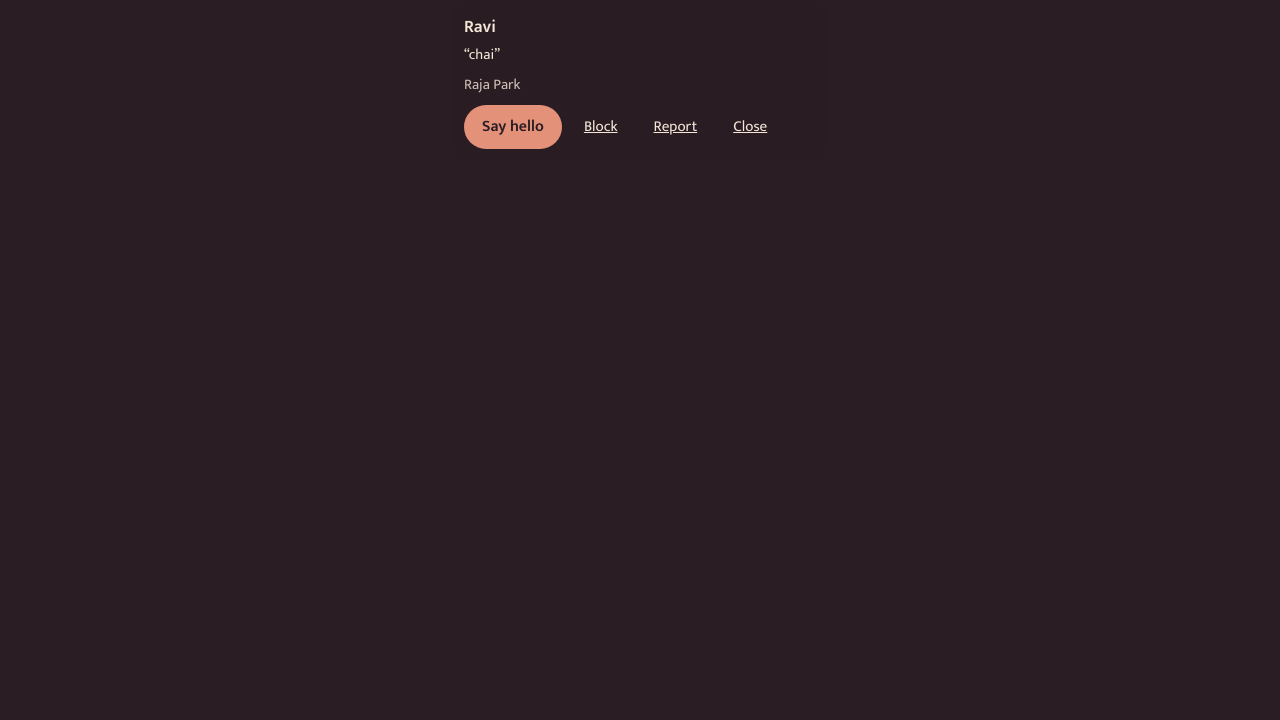
Test: BlockConfirm: a block that fails opens no report form
Click the button "Block" at (601, 127), box [570,105,632,149]
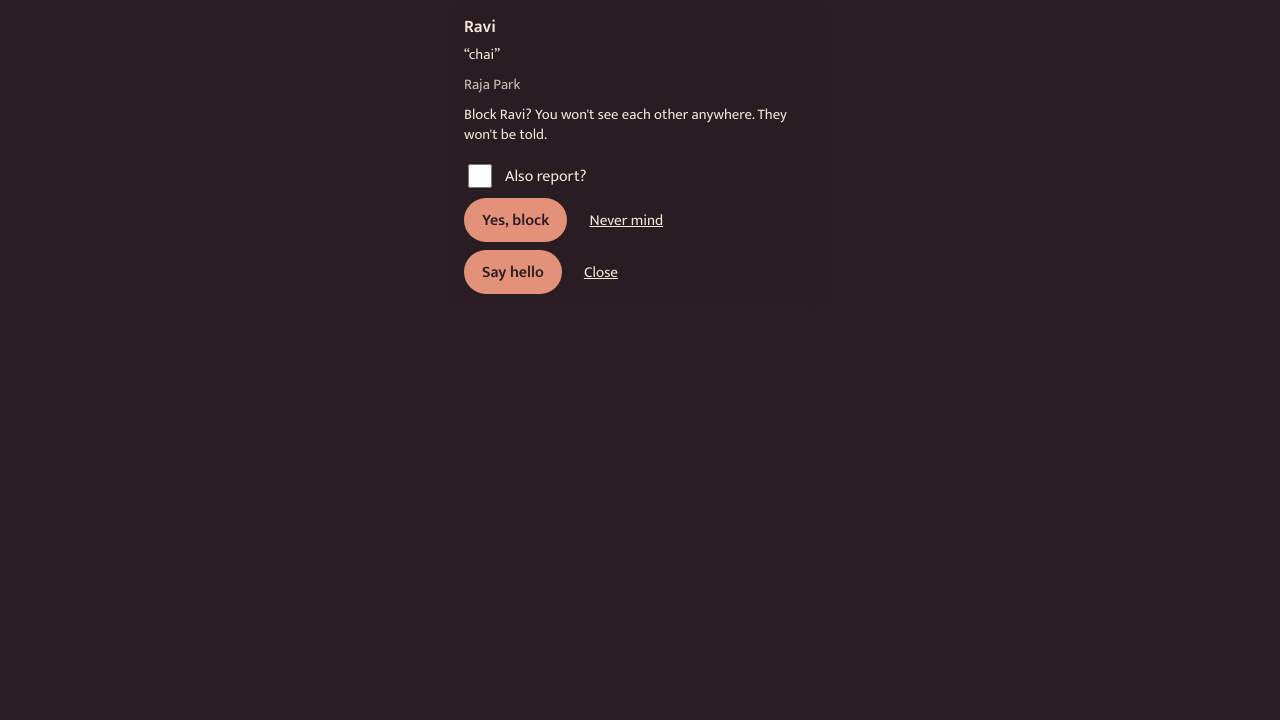
Click the checkbox labelled "Also report?" at (480, 176), box [468,164,492,188]
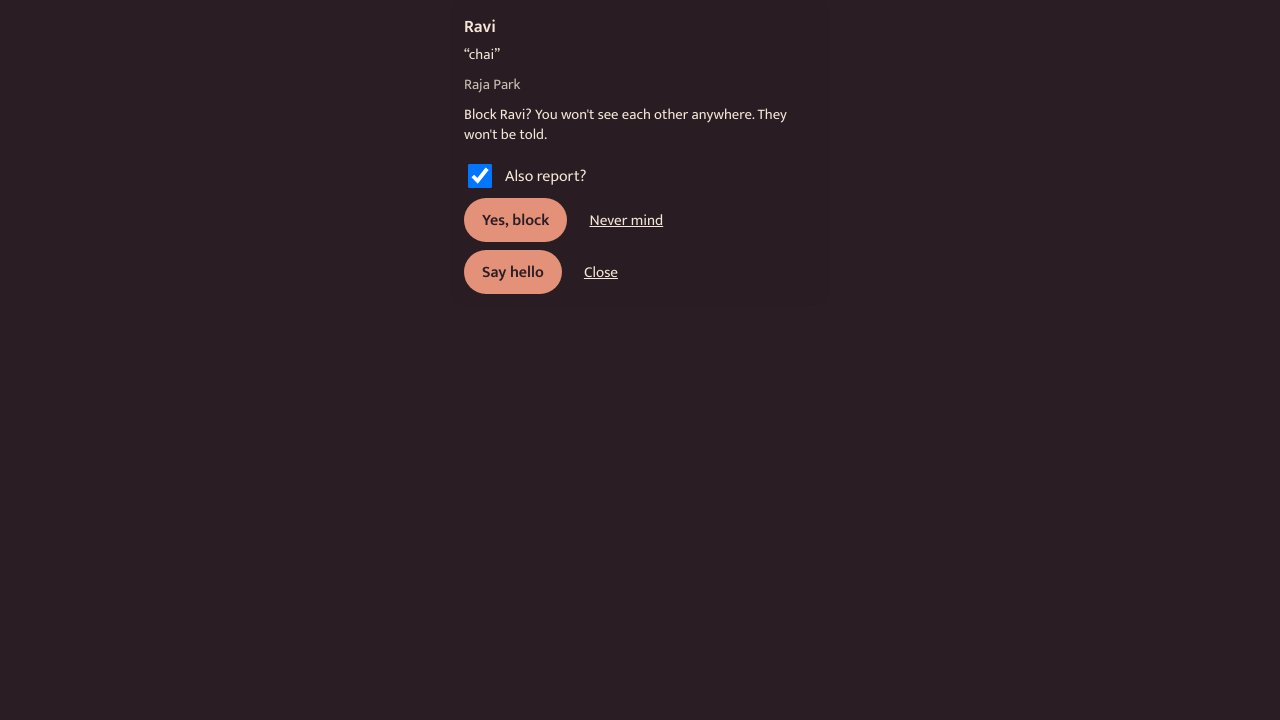
Click the button "Yes, block" at (516, 220), box [464,198,567,242]
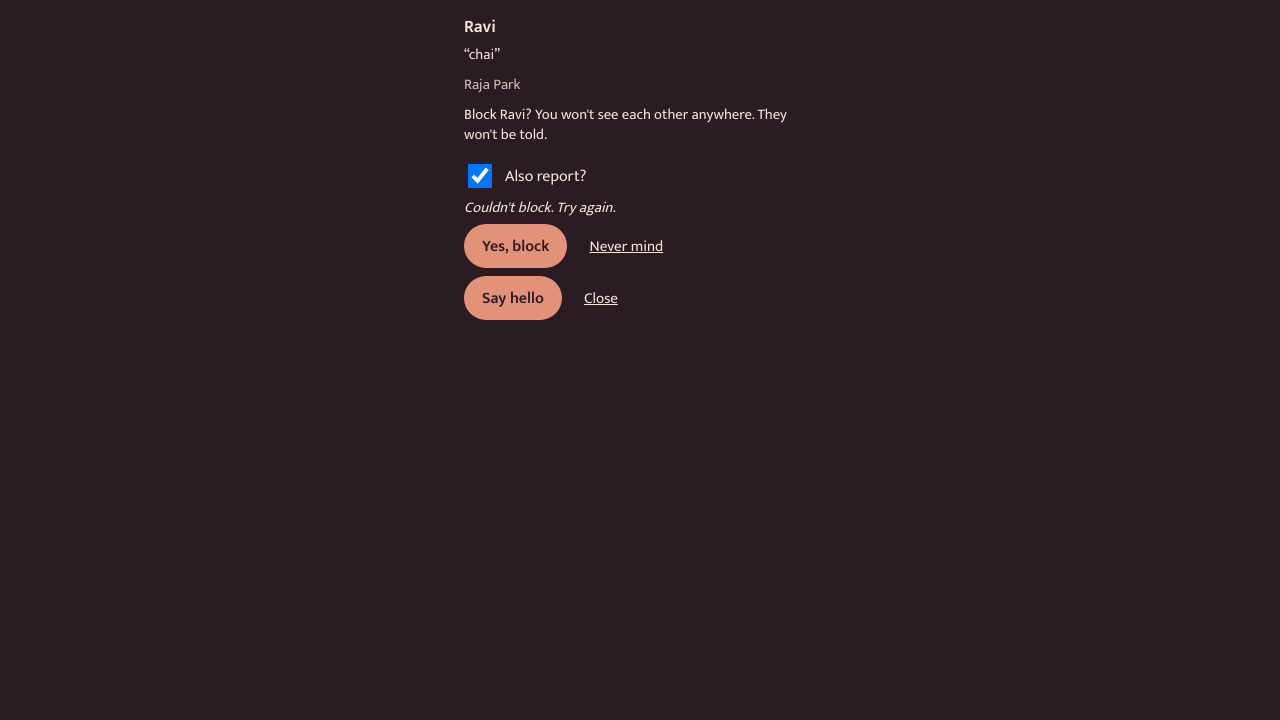
Now the text "Couldn't block" is shown, box [464,195,616,220]
